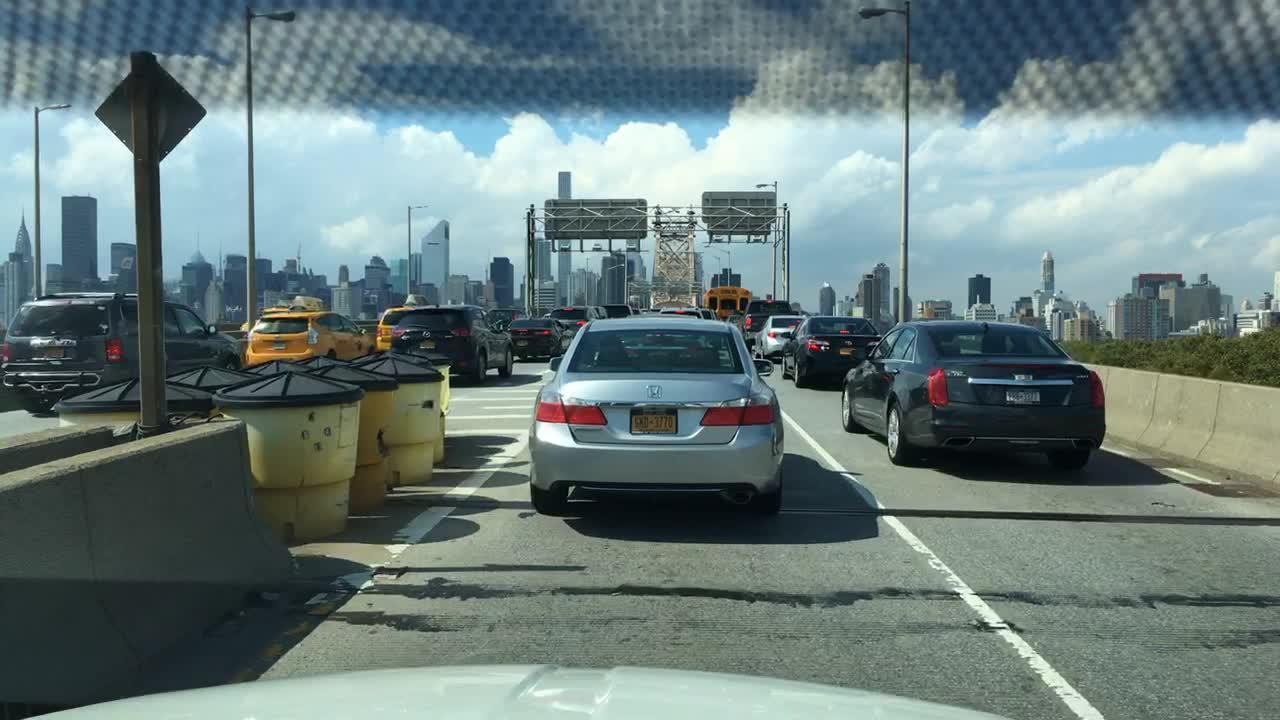Honda: (645, 382, 667, 402)
cadillac: (1009, 369, 1038, 388)
